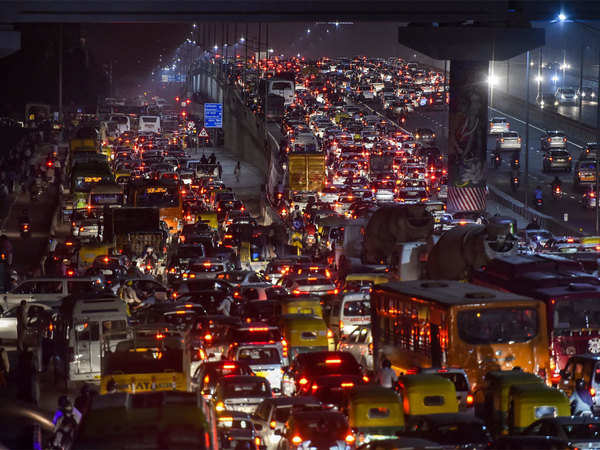bike: (1, 233, 14, 271), (143, 248, 155, 278), (19, 213, 31, 241), (552, 176, 564, 201), (511, 166, 520, 191), (535, 188, 544, 208), (492, 150, 501, 170), (512, 150, 520, 170), (398, 111, 405, 127)
bus: (374, 287, 546, 380), (544, 283, 600, 387), (132, 185, 182, 236), (70, 162, 111, 209), (261, 78, 293, 111), (26, 103, 52, 131), (110, 114, 130, 139), (139, 116, 160, 139)
car: (70, 305, 136, 386), (6, 279, 92, 318), (290, 355, 361, 401), (234, 343, 285, 395), (213, 381, 270, 427), (257, 399, 308, 450), (282, 414, 349, 450), (211, 324, 273, 361), (568, 357, 600, 423), (200, 359, 249, 400), (337, 294, 375, 345), (285, 275, 335, 311), (116, 277, 169, 310), (88, 265, 127, 297), (170, 241, 204, 268), (190, 263, 222, 285), (576, 160, 600, 189), (398, 188, 426, 210), (542, 150, 570, 172), (80, 219, 104, 243), (292, 195, 319, 216), (290, 134, 318, 154), (372, 180, 396, 203), (70, 212, 93, 235), (321, 186, 345, 207), (337, 196, 357, 220), (541, 131, 567, 149), (266, 261, 287, 283), (497, 131, 519, 151), (580, 141, 600, 161), (428, 93, 448, 113), (556, 87, 578, 105), (217, 191, 240, 208), (401, 165, 425, 181), (415, 127, 435, 145), (385, 100, 406, 117), (334, 169, 353, 186), (489, 117, 509, 133), (537, 95, 558, 110), (437, 175, 451, 196), (579, 85, 596, 102), (357, 86, 375, 102), (395, 133, 414, 148), (315, 122, 332, 138), (429, 71, 444, 85), (412, 74, 428, 86), (380, 87, 395, 99)
rickshaw: (403, 380, 460, 443), (349, 394, 406, 450), (512, 391, 568, 436), (286, 317, 328, 364), (282, 296, 322, 335), (195, 213, 218, 239)
truck: (99, 332, 190, 401), (329, 221, 391, 276), (284, 152, 325, 202), (70, 127, 100, 158)
